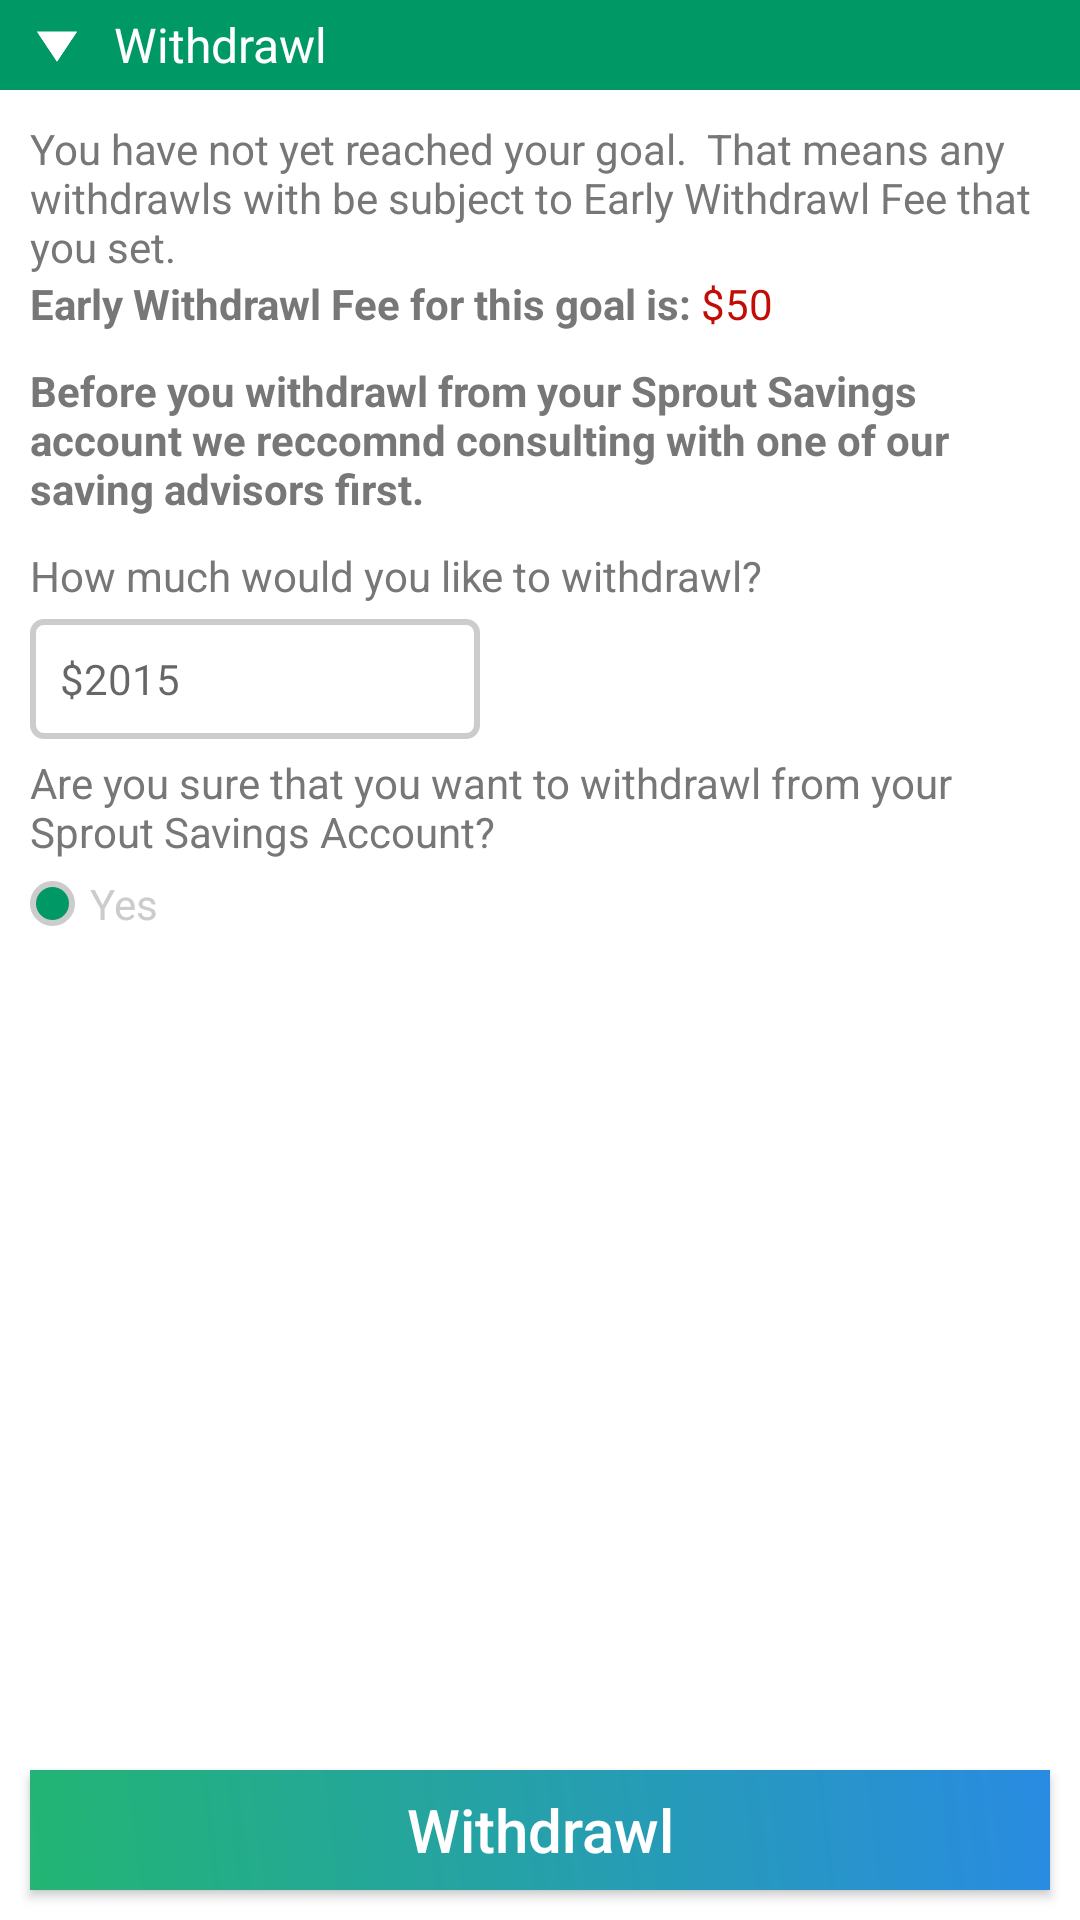

Point at icon controls on the screen. Image size 1080×1920, points as [x,y].
triangle down: [57,46]
